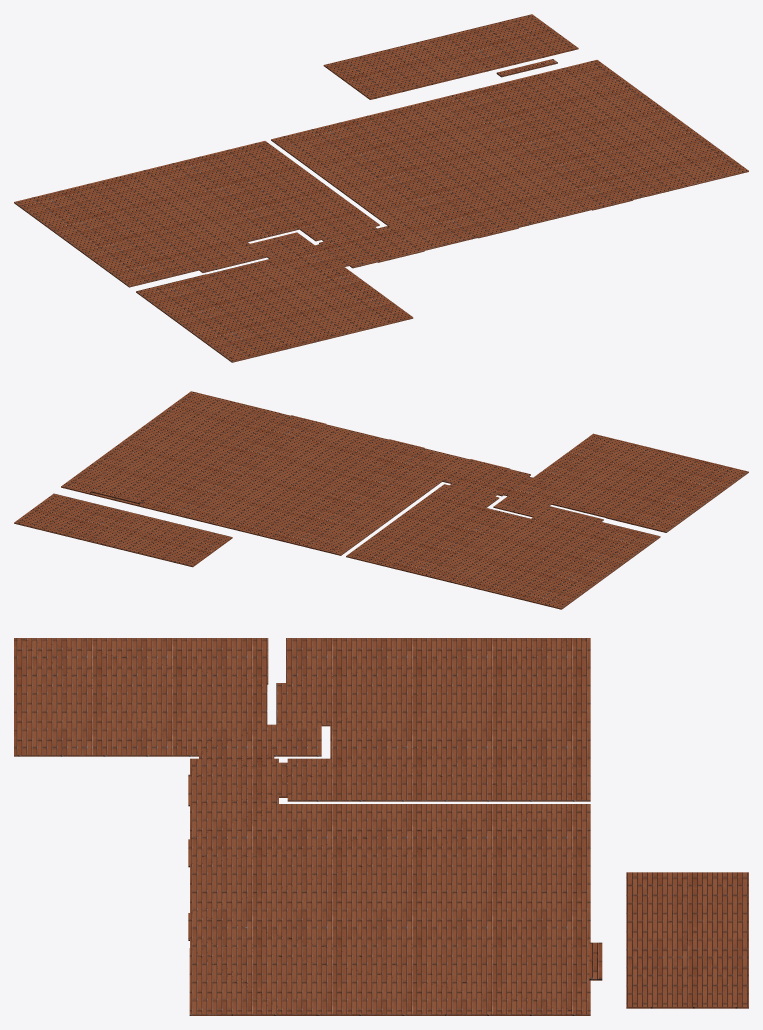
Rendered from ADSK_21.obj.
The picture shows the model from 3 angles, top to bottom: view 1: azimuth 30°, elevation 25°; view 2: azimuth 150°, elevation 25°; view 3: azimuth 270°, elevation 25°; orthographic projection. The views are drawn at different scales.
Bounding box in the file's own units: 10.02 × 0.14 × 8.27.
1 material, 1 textured.
